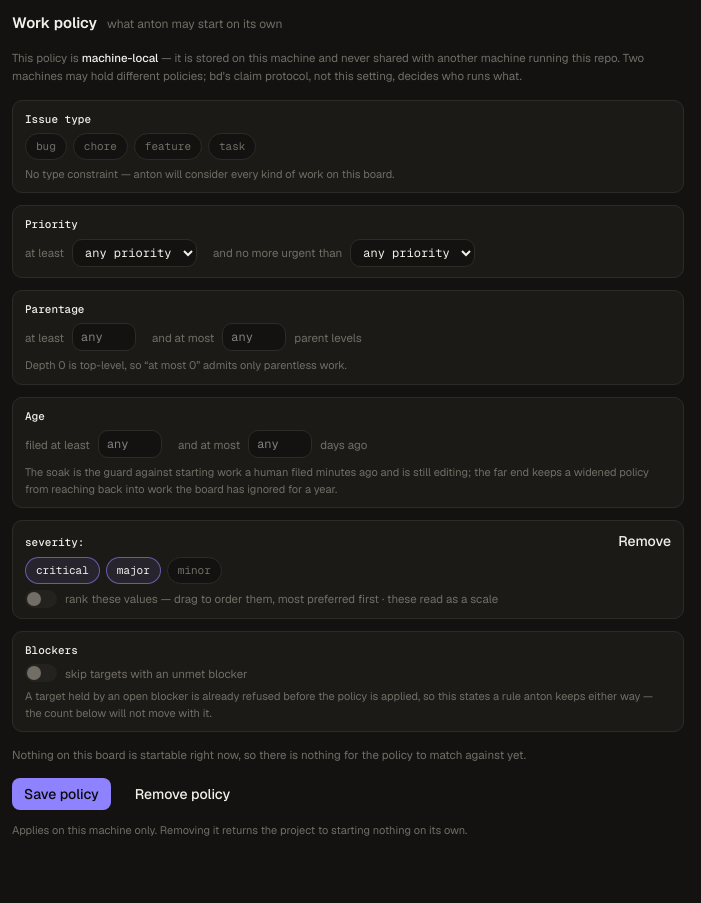
ranking a namespace's values (R2.3) › offers no ranking until the operator asks for one
The image size is (701, 903).
Click the switch named "Rank severity: values".
click(41, 599)  # box [25,590,57,608]
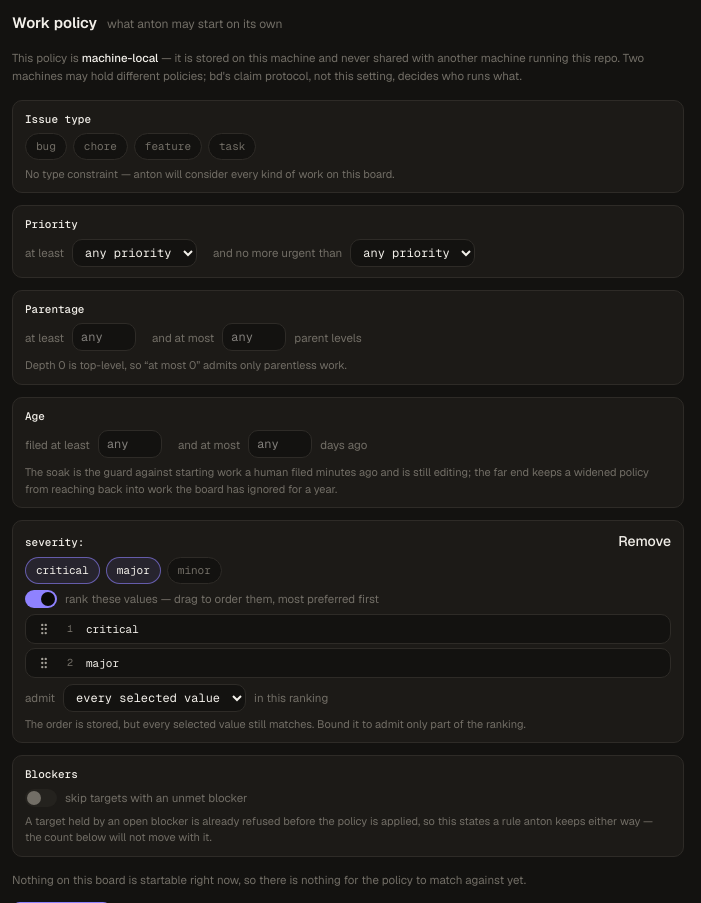
Expected: the button named "Reorder severity:critical" is shown, [34,619,54,639]
